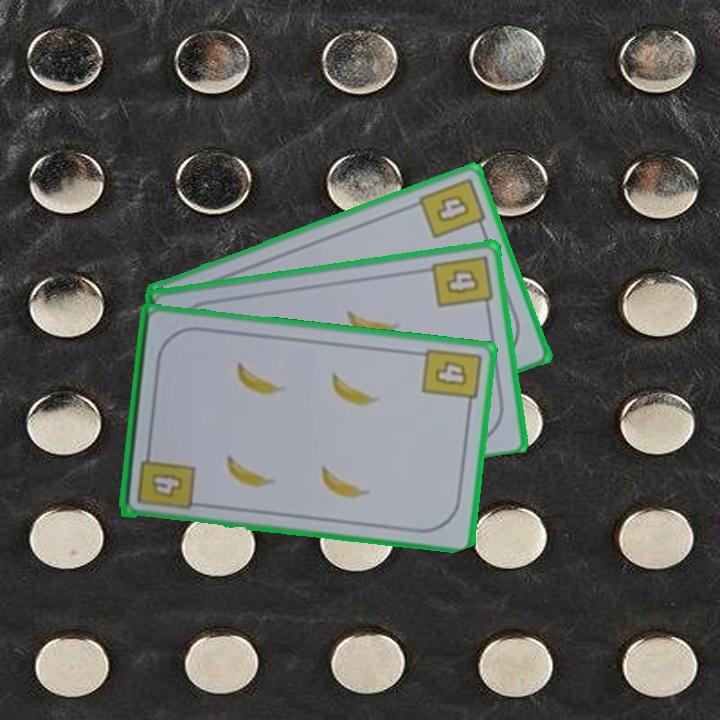4b: (415, 174, 489, 241), (418, 344, 484, 413), (428, 251, 495, 314), (151, 472, 187, 499)
